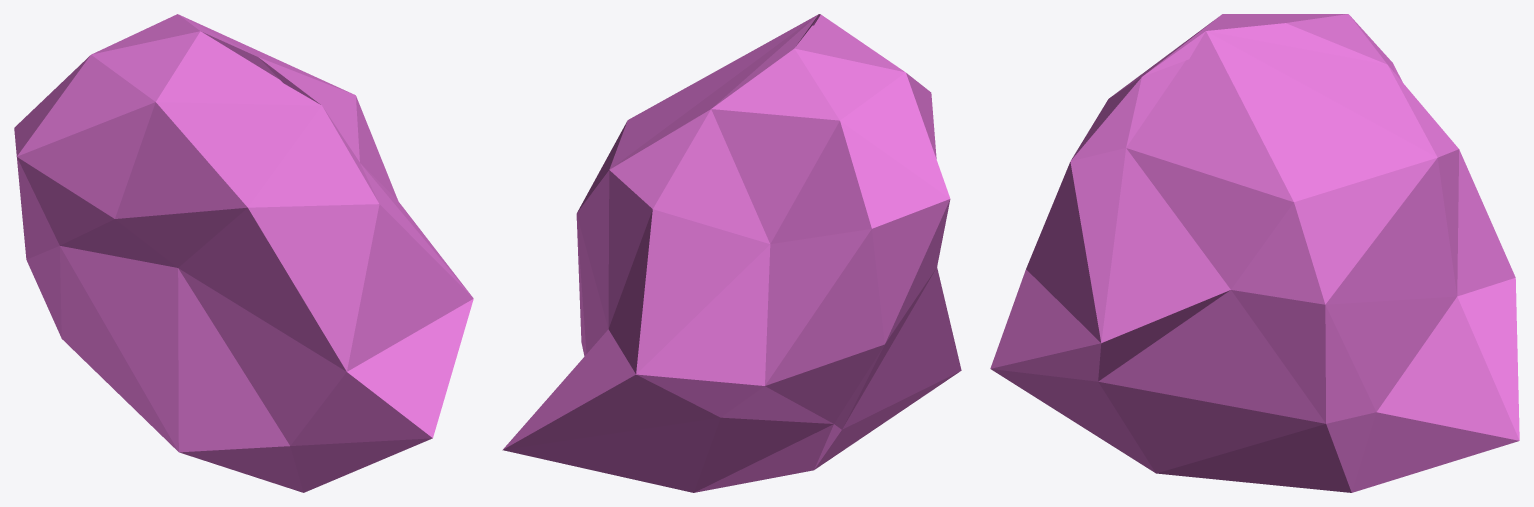
3 views of the same model, side by side, from view 1: azimuth 30°, elevation 25°; view 2: azimuth 150°, elevation 25°; view 3: azimuth 270°, elevation 25° (orthographic). The views are drawn at different scales.
Parts seen in each view (by area): view 1: Icosphere; view 2: Icosphere; view 3: Icosphere.
Part boxes in pixels (x1,y1,x2,y2): Icosphere: [14, 14, 473, 492]; Icosphere: [502, 14, 961, 492]; Icosphere: [990, 14, 1519, 492].
Size of the model in its own units: 537 by 413 by 476.
